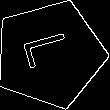L_E: (20, 32, 79, 76)
